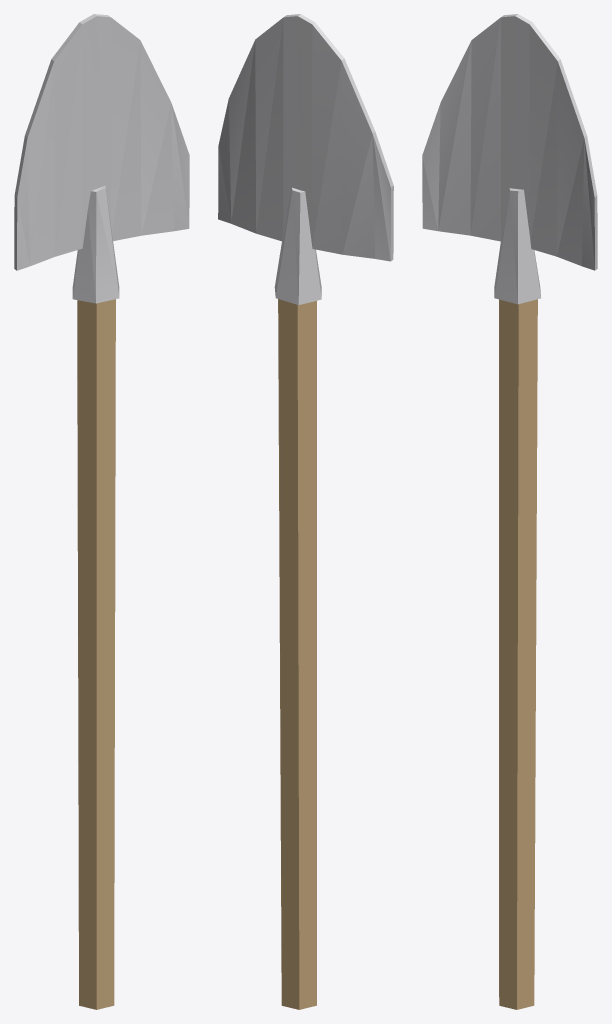
The model's file is shovel.fbx.
3 views of the same model, side by side, from view 1: azimuth 30°, elevation 25°; view 2: azimuth 150°, elevation 25°; view 3: azimuth 330°, elevation 25° (orthographic).
Parts seen in each view (by area): view 1: shovel; view 2: shovel; view 3: shovel.
Part boxes in pixels (x1,y1,x2,y2): shovel: (14,14,189,1009); shovel: (218,14,393,1009); shovel: (422,14,597,1009).
Bounding box in the file's own units: 6.04 × 33 × 1.41.
